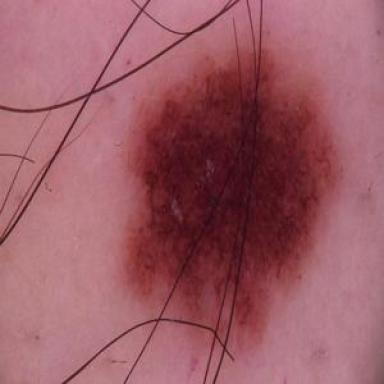Melanoma: (122, 44, 338, 351)
